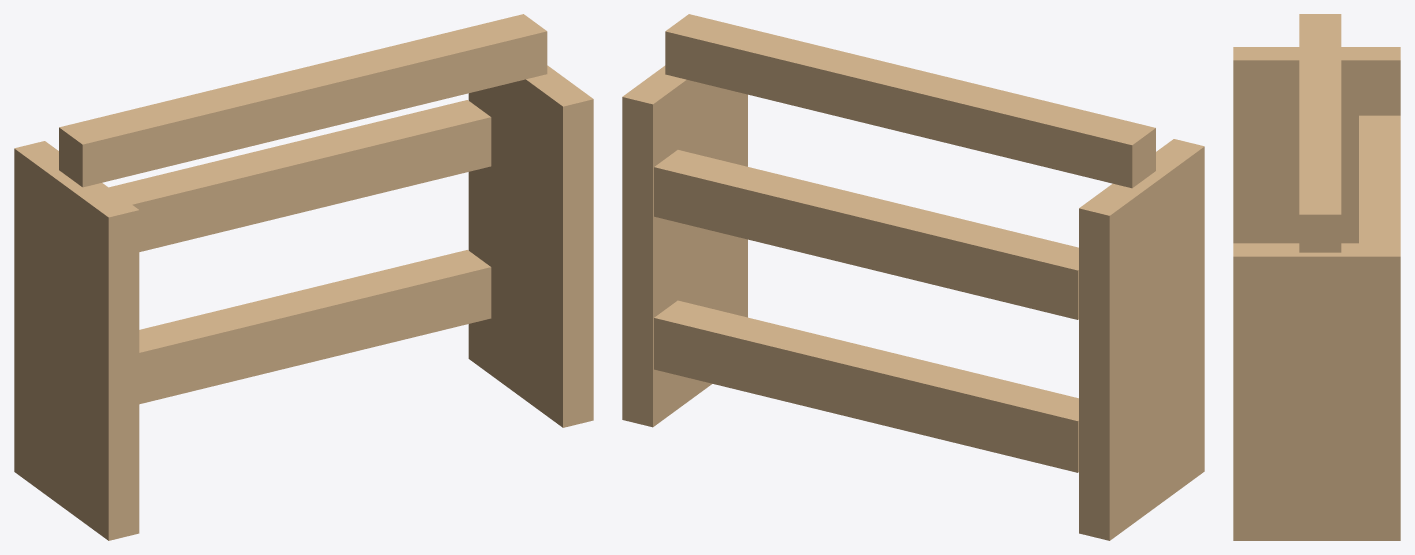
The model's file is tinker.obj.
3 views of the same model, side by side, from view 1: azimuth 30°, elevation 25°; view 2: azimuth 150°, elevation 25°; view 3: azimuth 270°, elevation 25° (orthographic). The views are drawn at different scales.
Visible parts, largest first — view 1: obj_0; view 2: obj_0; view 3: obj_0.
Boxes of the visible parts, x1,y1,x2,y2 form: obj_0: (14, 14, 593, 540); obj_0: (622, 14, 1204, 540); obj_0: (1233, 14, 1400, 540).
Bounding box in the file's own units: 237 × 171 × 80.
